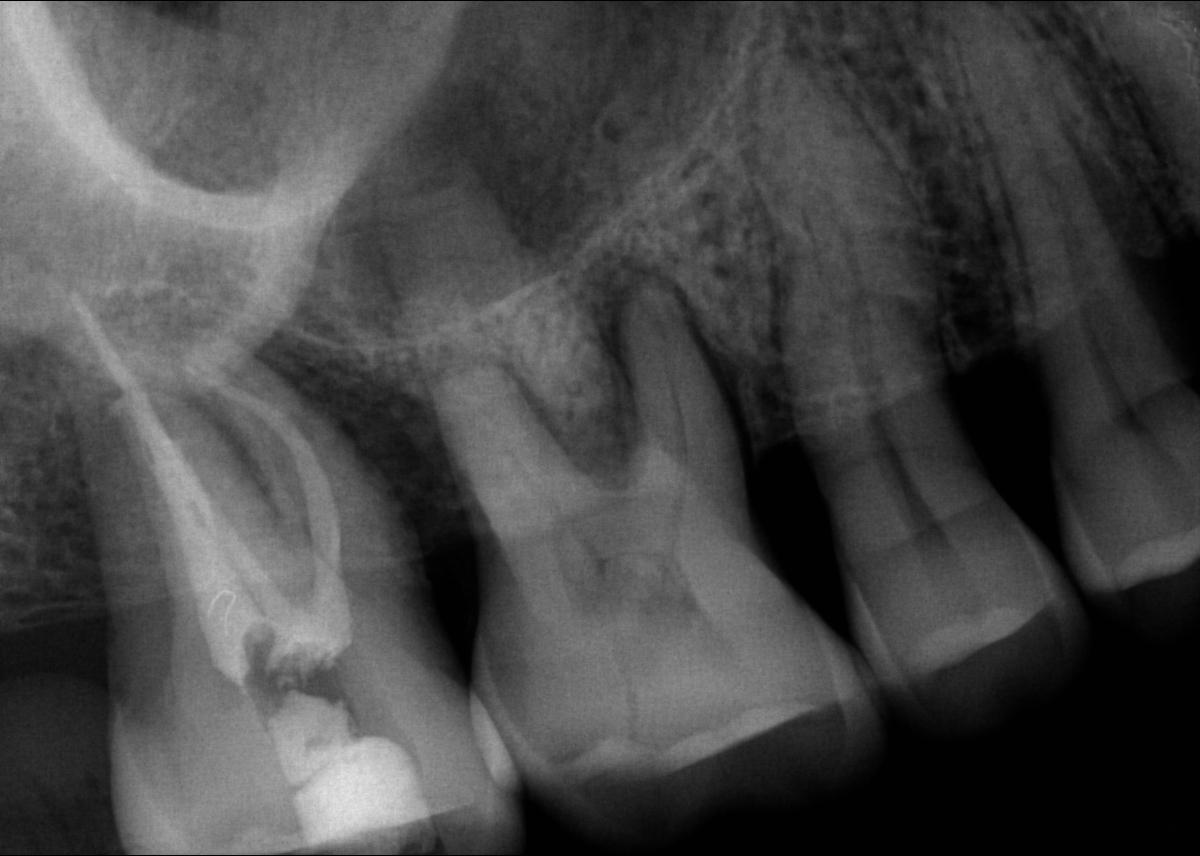Dental Caries: (580, 256, 797, 464)
Furcation Involvement: (404, 80, 609, 261)
